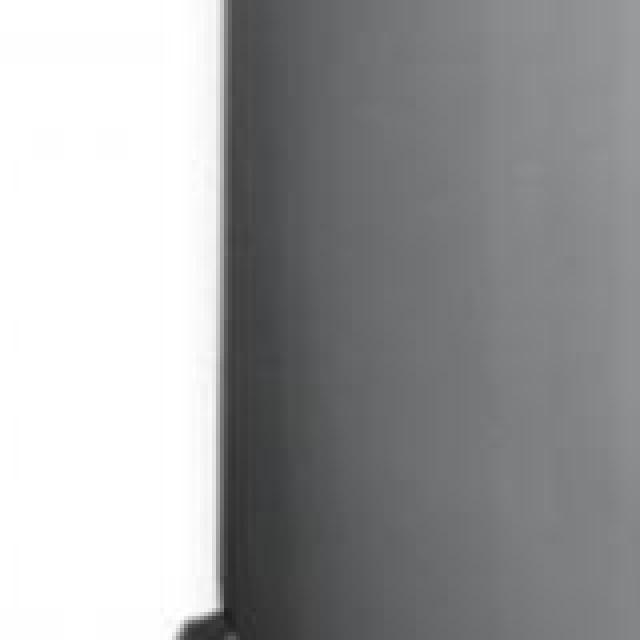capacitor: (200, 0, 640, 640)
